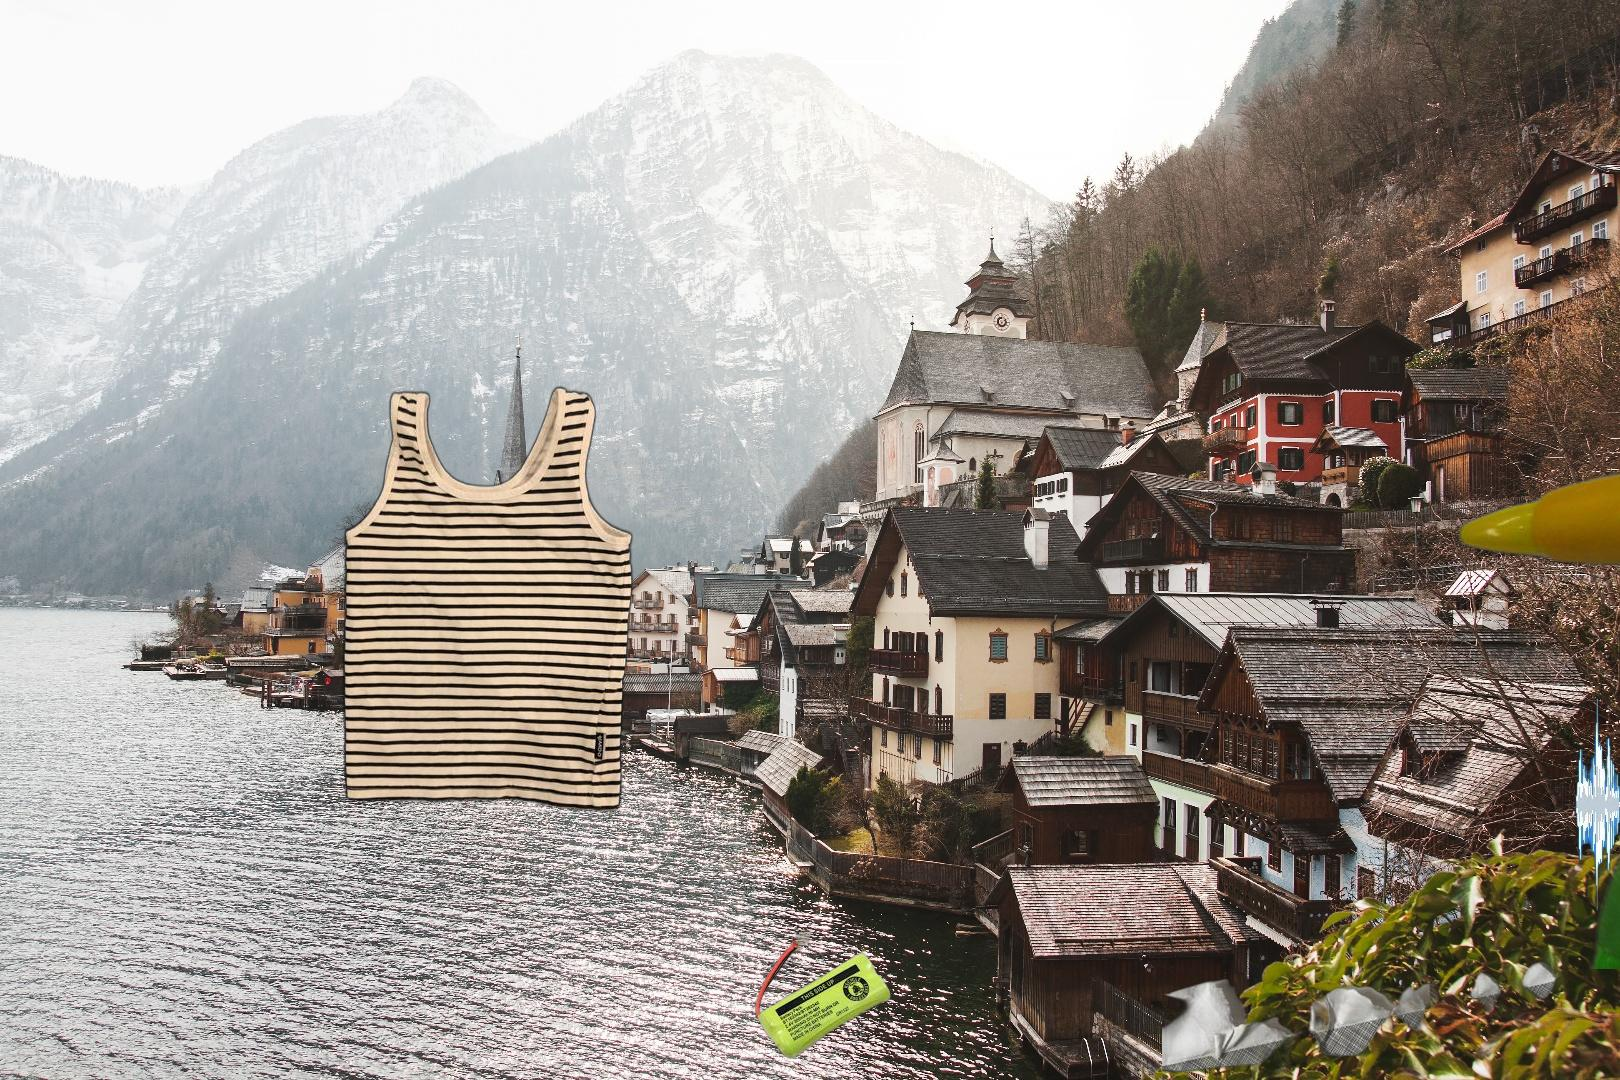battery: (752, 927, 894, 1061)
clothes: (339, 383, 636, 817)
paper: (1162, 958, 1620, 1080)
penholder: (1449, 277, 1620, 969)
trashbox-cardboard: (1571, 695, 1620, 912), (1615, 211, 1620, 688)
